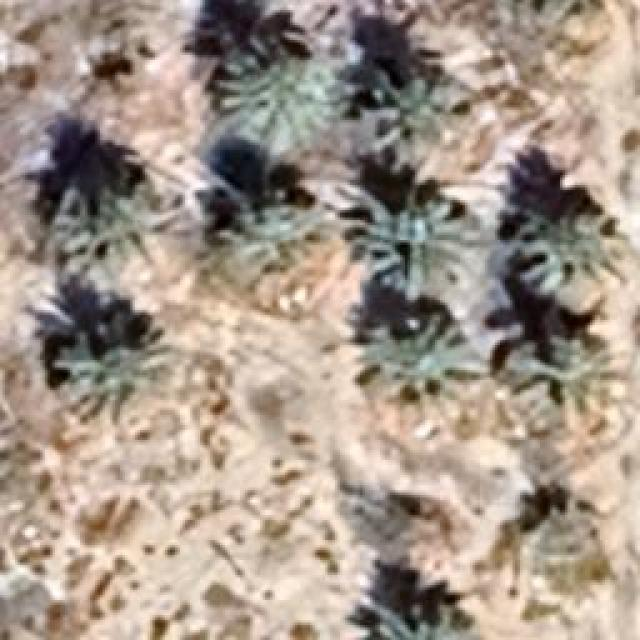PalmTree: (105, 98, 561, 536), (358, 60, 512, 178), (215, 32, 358, 158), (49, 312, 172, 422), (355, 195, 483, 298), (518, 212, 632, 312), (358, 304, 472, 404), (500, 325, 615, 420), (220, 181, 320, 289), (492, 0, 602, 50), (345, 600, 485, 638), (508, 0, 630, 33), (0, 573, 55, 640), (90, 104, 105, 201)
